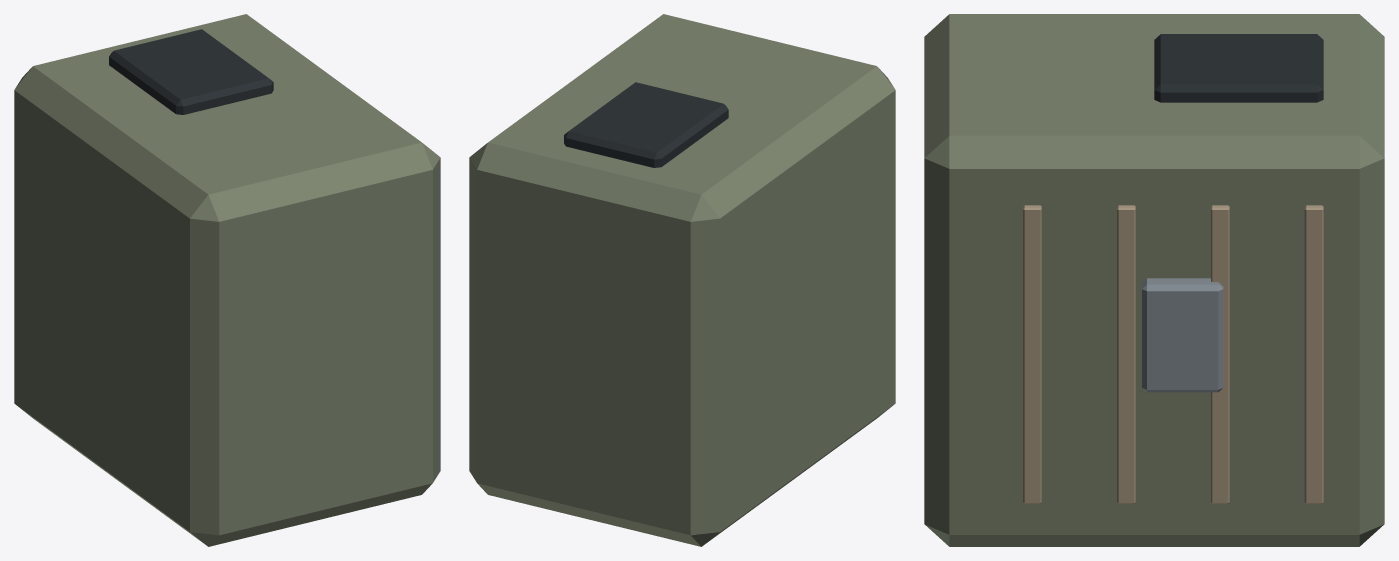
File: att_mag_bison556_extended.glb
The picture shows the model from 3 angles, left to right: view 1: azimuth 30°, elevation 25°; view 2: azimuth 150°, elevation 25°; view 3: azimuth 270°, elevation 25°; orthographic projection. The views are drawn at different scales.
Parts seen in each view (by area): view 1: Geometry_att_mag_bison556_extended; view 2: Geometry_att_mag_bison556_extended; view 3: Geometry_att_mag_bison556_extended.
Part boxes in pixels (x1,y1,x2,y2): Geometry_att_mag_bison556_extended: (14, 14, 440, 546); Geometry_att_mag_bison556_extended: (469, 14, 895, 546); Geometry_att_mag_bison556_extended: (924, 14, 1384, 546).
Bounding box in the file's own units: 0.115 × 0.1505 × 0.147.
